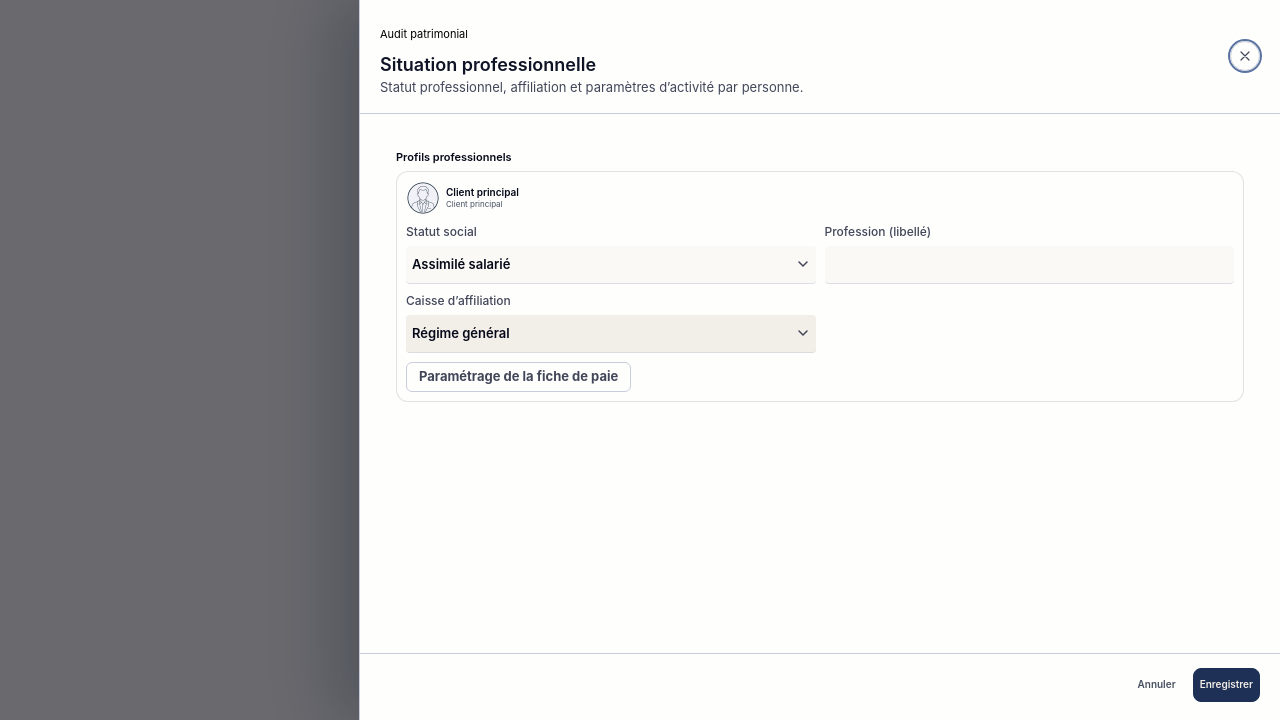
Test: ProfessionDrawer › réserve le paramétrage fiche de paie à l’assimilé salarié
Expected: the button named "Caisse d’affiliation" reads "Régime général", [406, 315, 816, 353]
Click the button "Paramétrage de la fiche de paie" at (519, 377), box [406, 362, 631, 392]
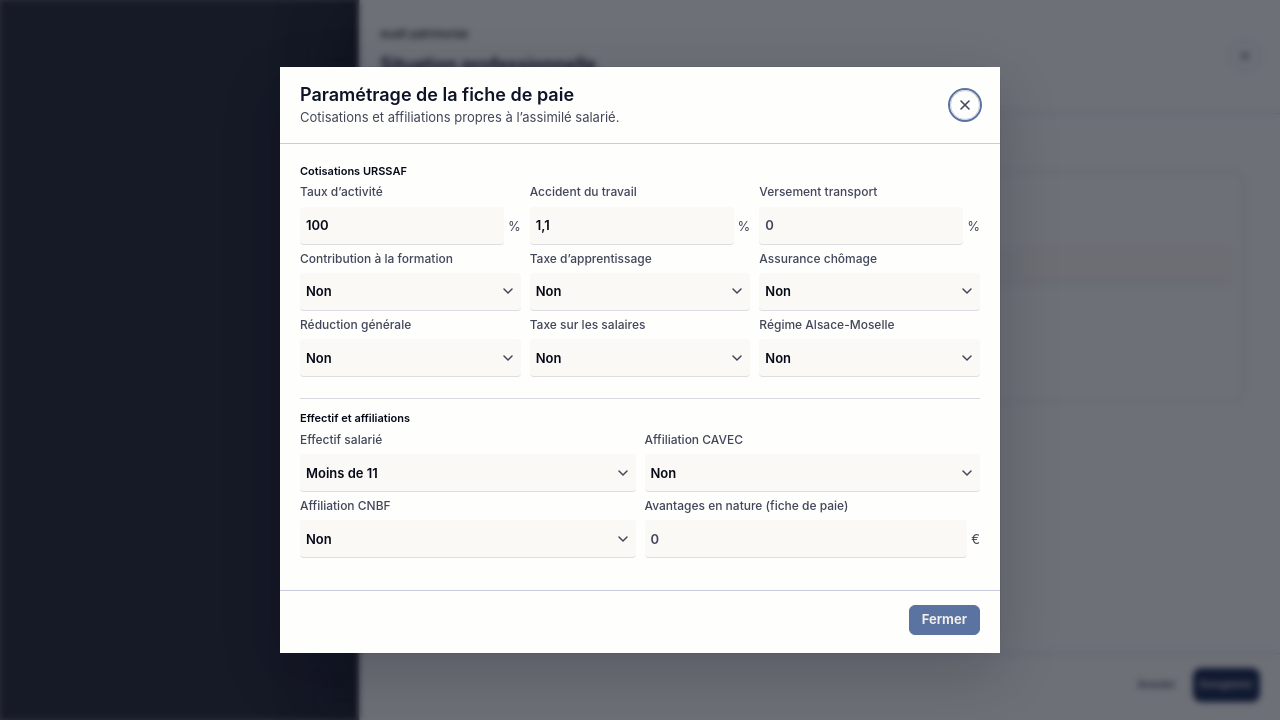
Result: the text "Taux d’activité" is shown at [300, 184, 383, 200]
Result: the text "Accident du travail" is shown at [530, 184, 637, 200]
Result: the button named "Affiliation CNBF" reads "Non"
Click the button named "Affiliation CNBF" at (319, 539), box [300, 520, 636, 558]
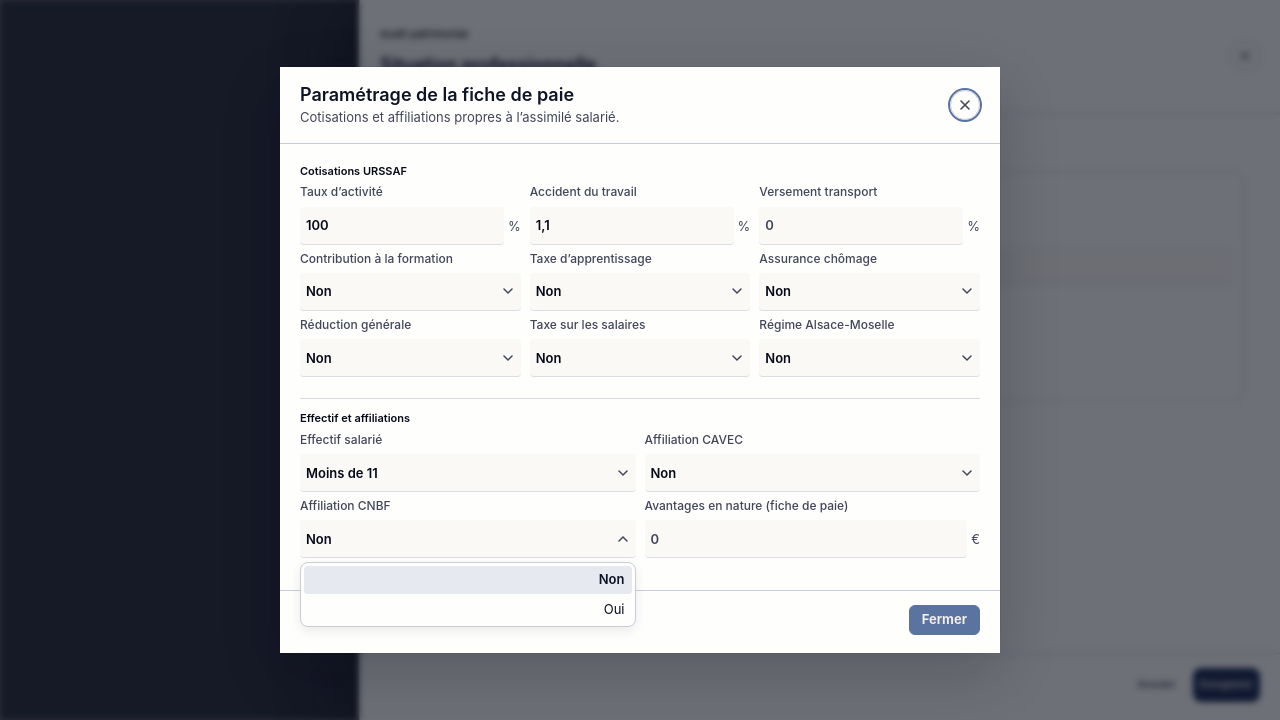
Click the option "Oui" at (614, 609), box [604, 601, 624, 617]
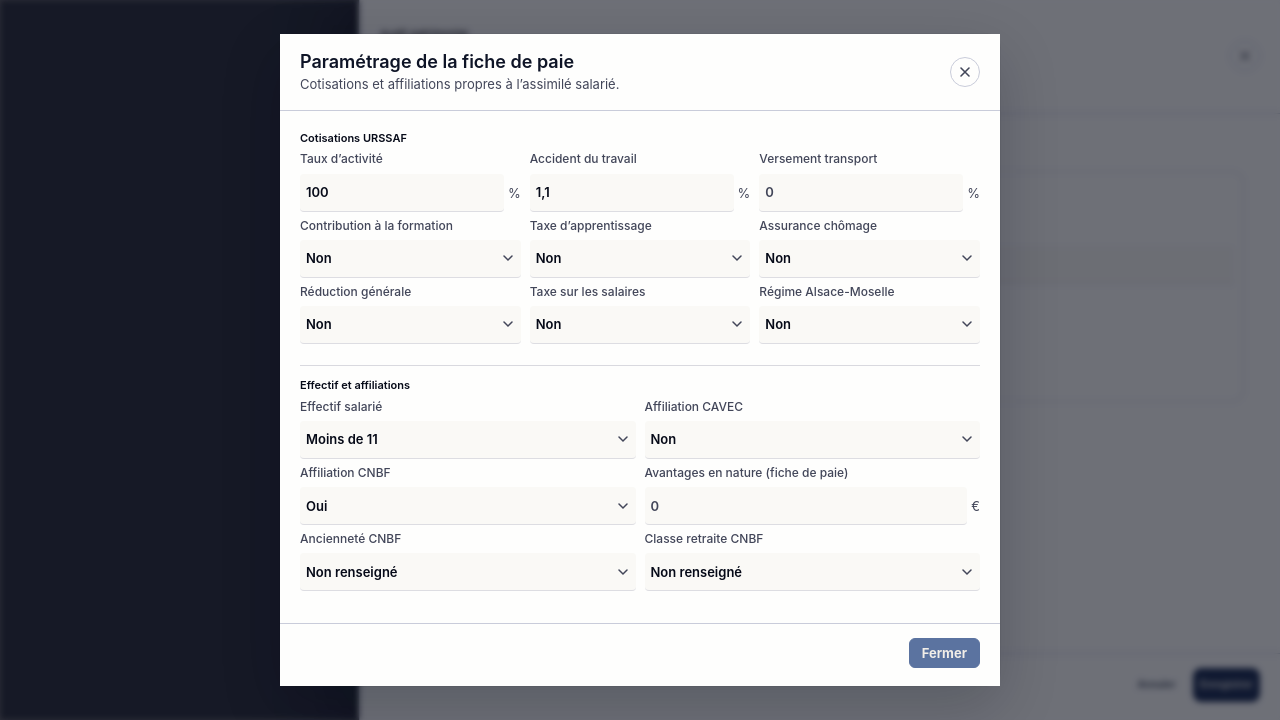
Result: the text "Ancienneté CNBF" is shown at [300, 531, 401, 546]
Result: the text "Classe retraite CNBF" is shown at [644, 531, 763, 546]
